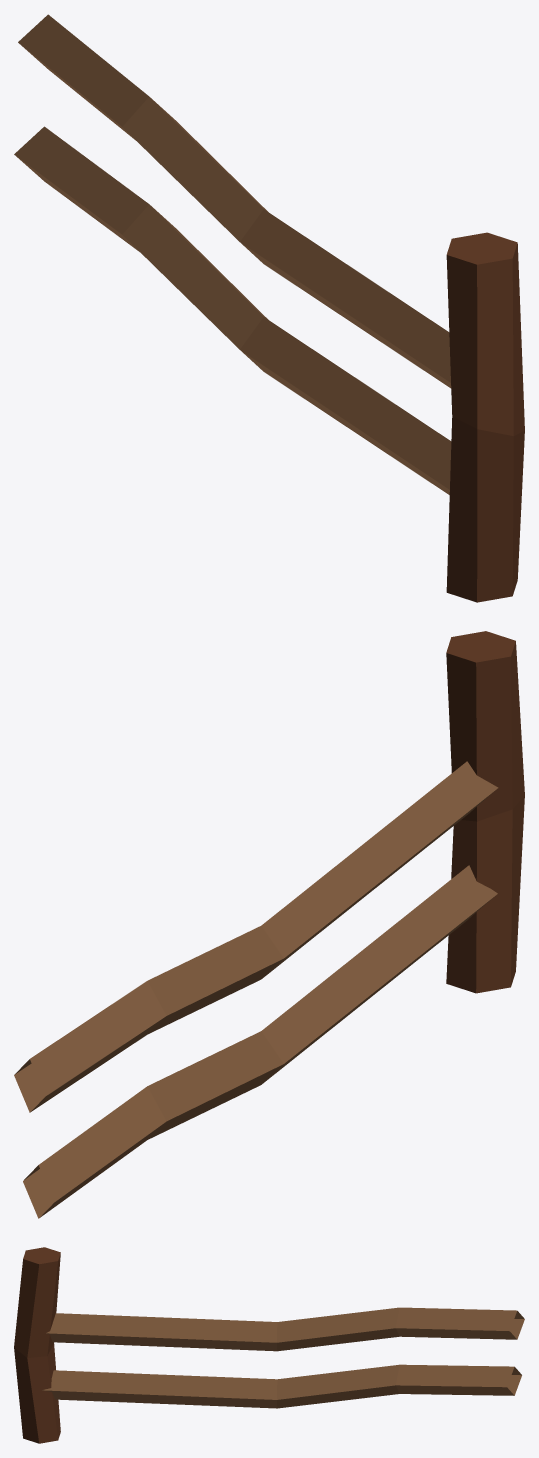
Rendered from Fence#3.fbx.
The picture shows the model from 3 angles, top to bottom: view 1: azimuth 30°, elevation 25°; view 2: azimuth 150°, elevation 25°; view 3: azimuth 270°, elevation 25°; orthographic projection. The views are drawn at different scales.
Visible parts, largest first — view 1: Cylinder.001; view 2: Cylinder.001; view 3: Cylinder.001.
Boxes of the visible parts, x1=… form: Cylinder.001: x1=14, y1=14, x2=524, y2=602; Cylinder.001: x1=14, y1=631, x2=524, y2=1218; Cylinder.001: x1=14, y1=1247, x2=524, y2=1443.
Size of the model in its own units: 74.94 by 347 by 896.
